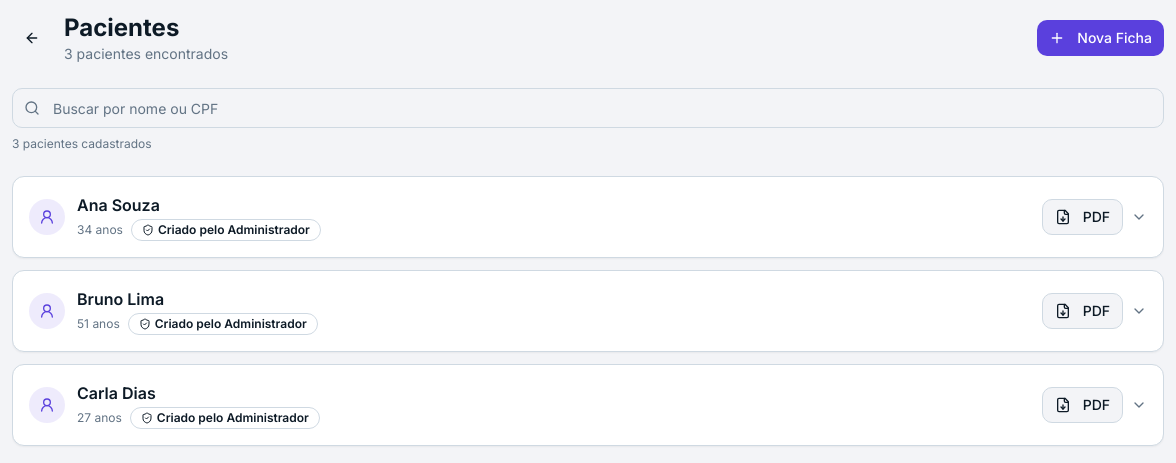
Test case: Patients search › filters the list by name while typing
The image size is (1176, 463).
Expected: the text "Ana Souza" is shown, [77,195,160,215]
Type "bru" into the field labelled "Buscar por nome ou CPF" at x=588, y=108, box [12,88,1164,128]
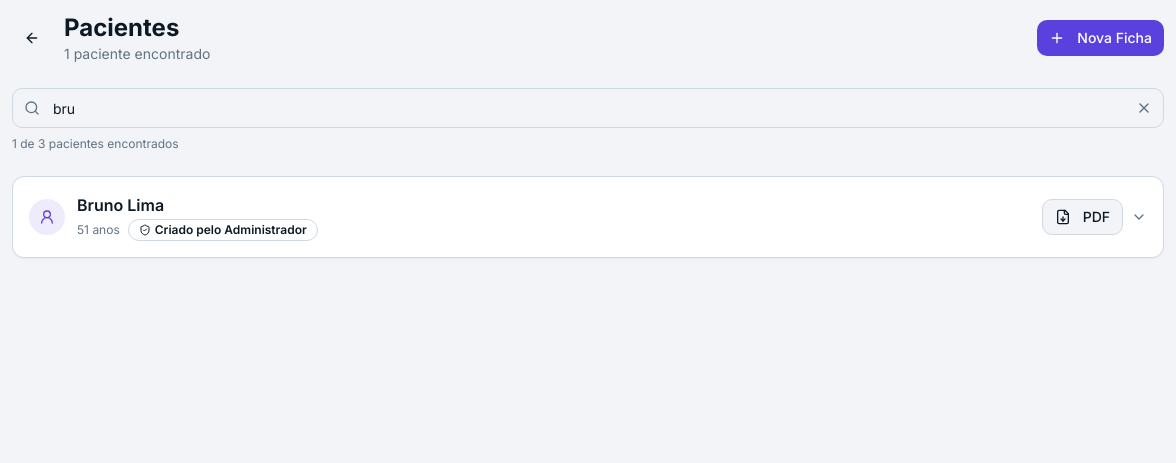
Now the text "1 de 3 pacientes encontrados" is shown, box [12,136,179,151]
Now the text "Ana Souza" is gone
Now the text "Carla Dias" is gone
